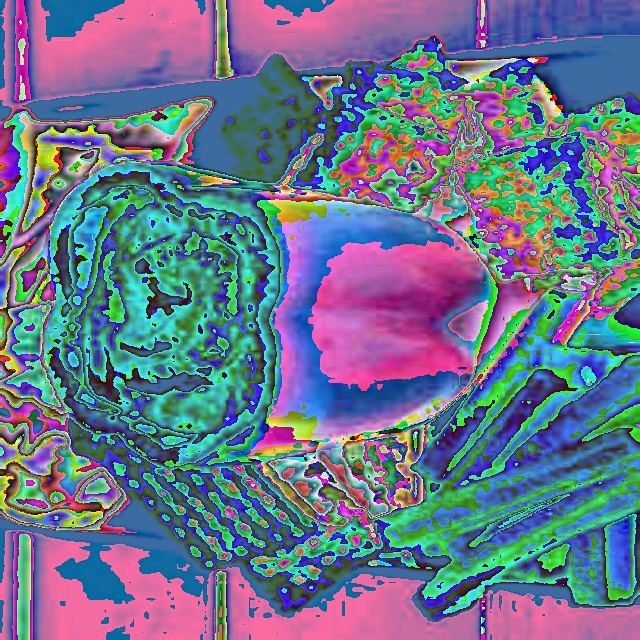background: (0, 38, 640, 625)
